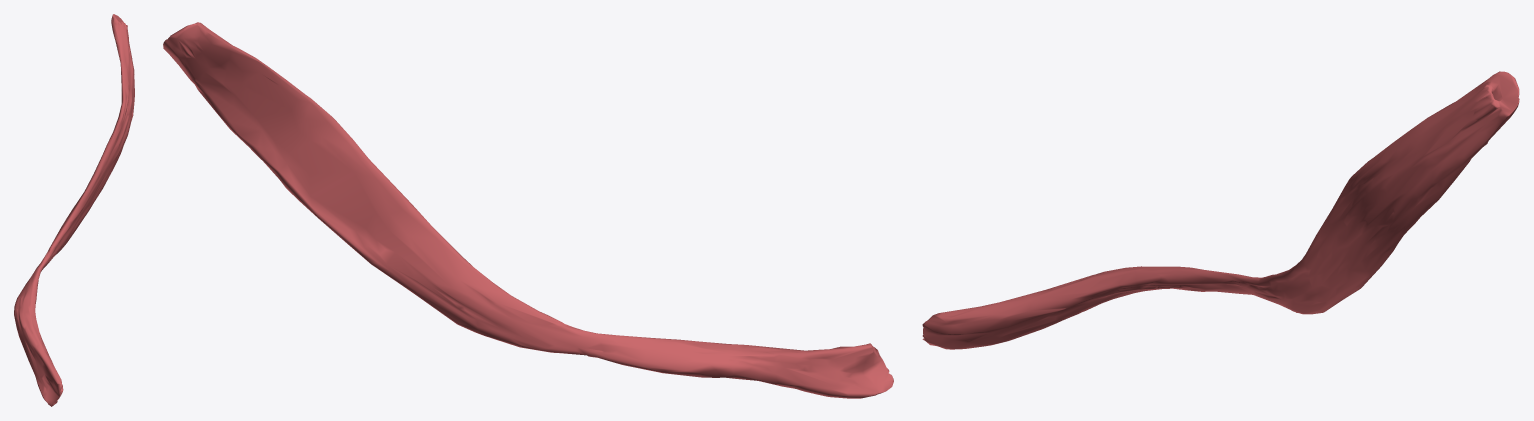
3 renders of one model, left to right at view 1: azimuth 30°, elevation 25°; view 2: azimuth 150°, elevation 25°; view 3: azimuth 270°, elevation 25°, orthographic. The views are drawn at different scales.
Visible parts, largest first — view 1: 左侧肩胛舌骨肌; view 2: 左侧肩胛舌骨肌; view 3: 左侧肩胛舌骨肌.
Boxes of the visible parts, box(x1,y1,x2,y2) form: 左侧肩胛舌骨肌: box(14, 14, 134, 406); 左侧肩胛舌骨肌: box(163, 22, 893, 398); 左侧肩胛舌骨肌: box(922, 71, 1519, 349).
Bounding box in the file's own units: 0.1338 × 0.1377 × 0.157.
